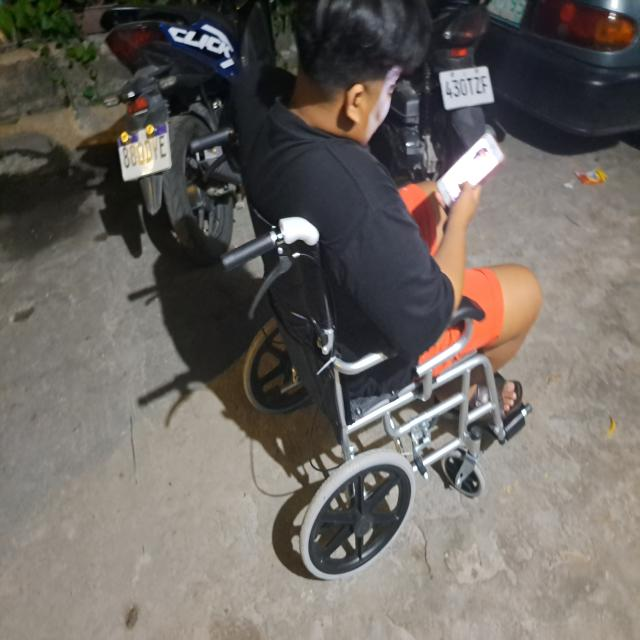wheelchairs: (190, 138, 542, 599)
